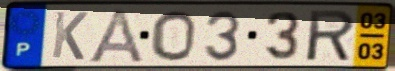3: (202, 8, 243, 63), (262, 9, 304, 61)
A: (84, 7, 146, 64)
K: (49, 10, 90, 62)
O: (150, 9, 198, 63)
R: (306, 8, 357, 64)
